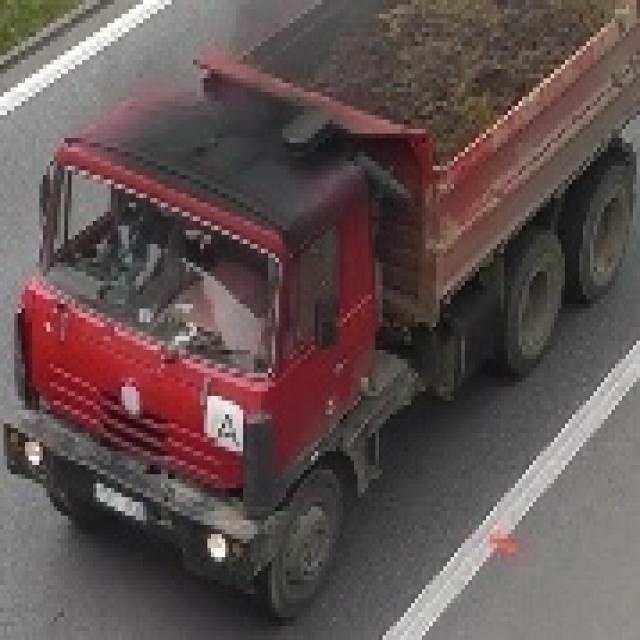Truck: (0, 0, 636, 612)
